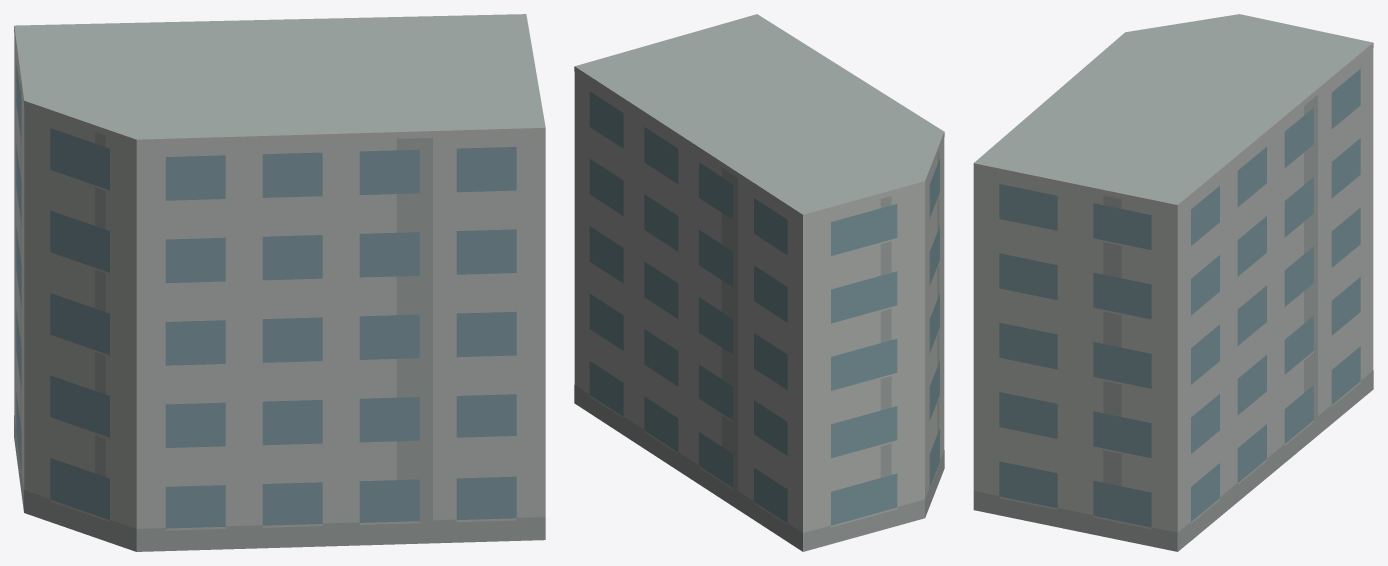
The model's file is residential-5f8a718f-5451-4d32-b556-97180731b9c6.glb.
3 renders of one model, left to right at view 1: azimuth 30°, elevation 25°; view 2: azimuth 150°, elevation 25°; view 3: azimuth 270°, elevation 25°, orthographic. The views are drawn at different scales.
Parts seen in each view (by area): view 1: residential-5f8a718f-5451-4d32-b556-97180731b9c6.tmp; view 2: residential-5f8a718f-5451-4d32-b556-97180731b9c6.tmp; view 3: residential-5f8a718f-5451-4d32-b556-97180731b9c6.tmp.
Boxes of the visible parts, x1,y1,x2,y2 form: residential-5f8a718f-5451-4d32-b556-97180731b9c6.tmp: (14, 14, 545, 551); residential-5f8a718f-5451-4d32-b556-97180731b9c6.tmp: (574, 14, 944, 551); residential-5f8a718f-5451-4d32-b556-97180731b9c6.tmp: (973, 14, 1373, 551).
Size of the model in its own units: 17.73 by 15 by 15.68.
